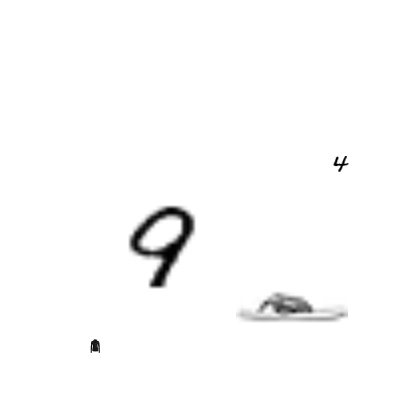4: (329, 152, 351, 174)
9: (106, 183, 218, 295)
Coat: (88, 339, 102, 353)
Sandal: (236, 249, 348, 361)
